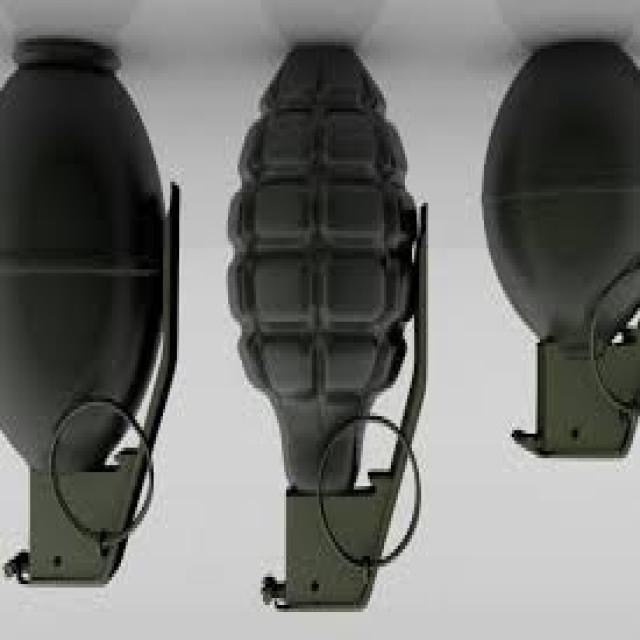grenade: (225, 34, 448, 630), (1, 24, 206, 610), (475, 28, 640, 470)
